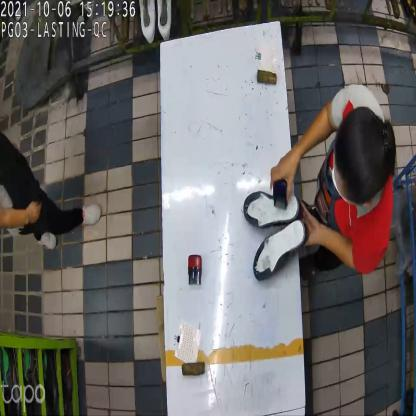shoes: (242, 191, 308, 281)
stamp: (185, 252, 204, 287), (271, 178, 290, 210)
